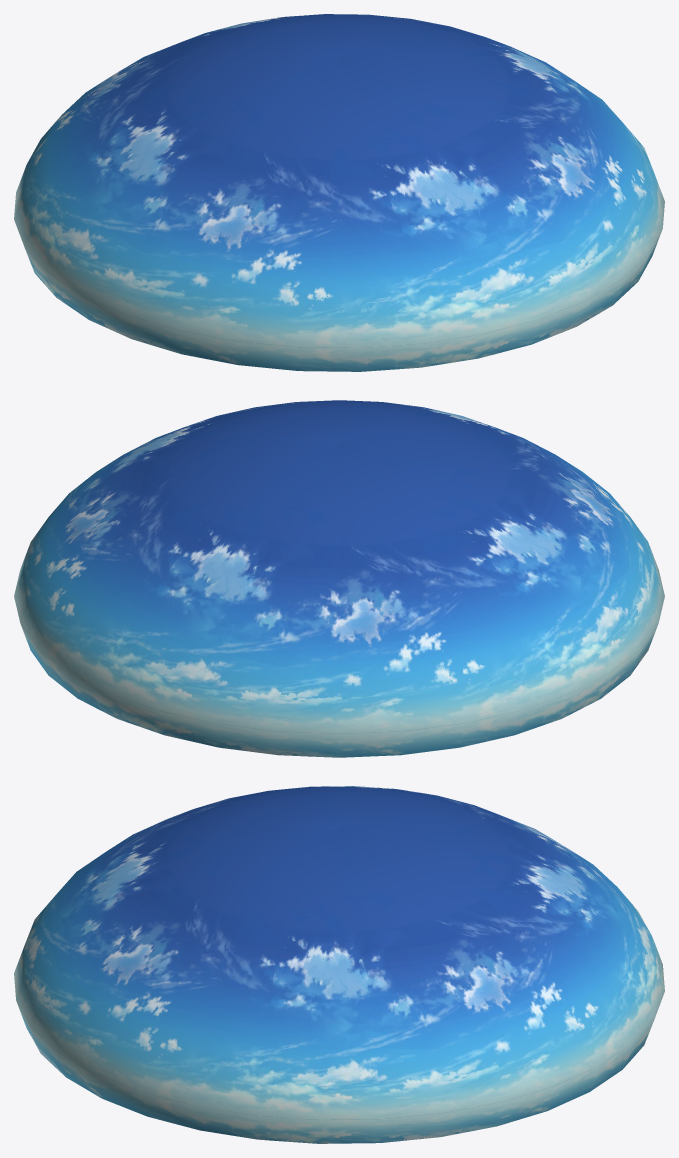
File: river.glb
3 views of the same model, one above another, from view 1: azimuth 30°, elevation 25°; view 2: azimuth 150°, elevation 25°; view 3: azimuth 270°, elevation 25° (orthographic).
Visible parts, largest first — view 1: si02bsky; view 2: si02bsky; view 3: si02bsky.
Part boxes in pixels (x1,y1,x2,y2): si02bsky: [14, 14, 664, 371]; si02bsky: [14, 400, 664, 757]; si02bsky: [14, 786, 664, 1143].
Bounding box in the file's own units: 840 × 305 × 840.
34 materials, 34 textured.
